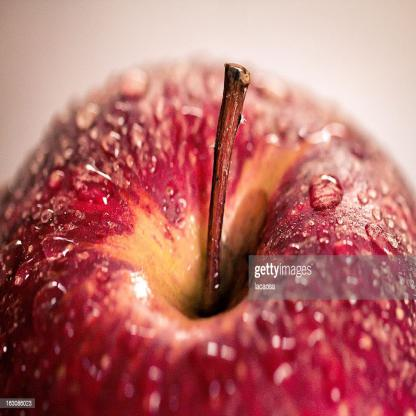Apple: (7, 49, 416, 416)
